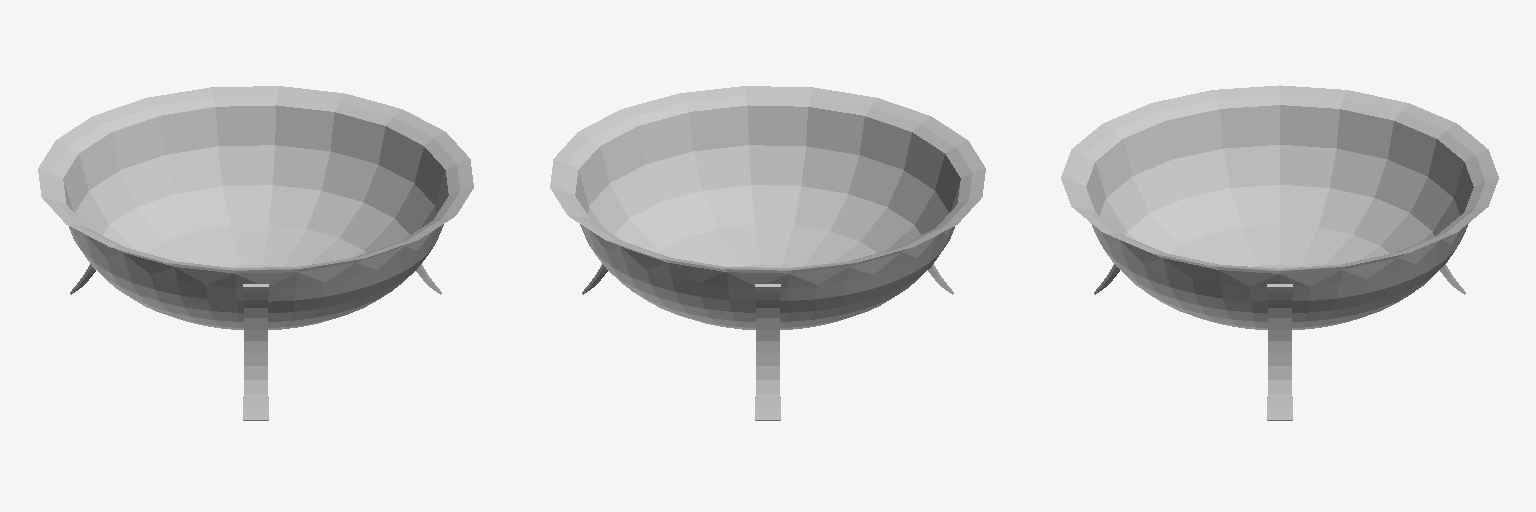
3 views of the same model, side by side, from view 1: azimuth 30°, elevation 25°; view 2: azimuth 150°, elevation 25°; view 3: azimuth 270°, elevation 25° (orthographic).
Visible parts, largest first — view 1: defaultMaterial, defaultMaterial.003; view 2: defaultMaterial, defaultMaterial.002; view 3: defaultMaterial, defaultMaterial.001.
Boxes of the visible parts, x1,y1,x2,y2 form: defaultMaterial: [38, 86, 473, 329]; defaultMaterial.003: [243, 284, 268, 420]; defaultMaterial: [550, 86, 985, 329]; defaultMaterial.002: [755, 284, 780, 420]; defaultMaterial: [1061, 85, 1498, 329]; defaultMaterial.001: [1267, 284, 1292, 420].
Size of the model in its own units: 2 by 0.7842 by 2.